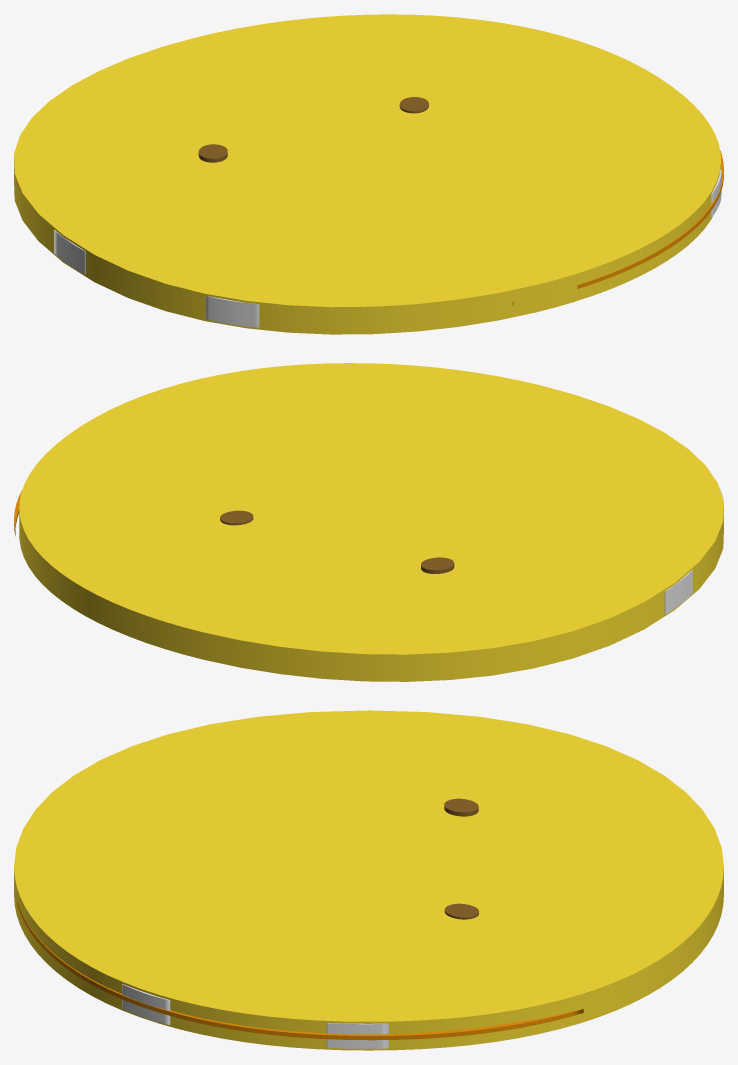
Rendered from emoji_u1f637.glb.
3 views of the same model, one above another, from view 1: azimuth 30°, elevation 25°; view 2: azimuth 150°, elevation 25°; view 3: azimuth 270°, elevation 25° (orthographic). The views are drawn at different scales.
Visible parts, largest first — view 1: emoji_u1f637; view 2: emoji_u1f637; view 3: emoji_u1f637.
Boxes of the visible parts, x1=… form: emoji_u1f637: x1=14, y1=14, x2=723, y2=334; emoji_u1f637: x1=14, y1=363, x2=723, y2=681; emoji_u1f637: x1=14, y1=710, x2=723, y2=1050.
Bounding box in the file's own units: 0.0328 × 0.0018 × 0.0314.
